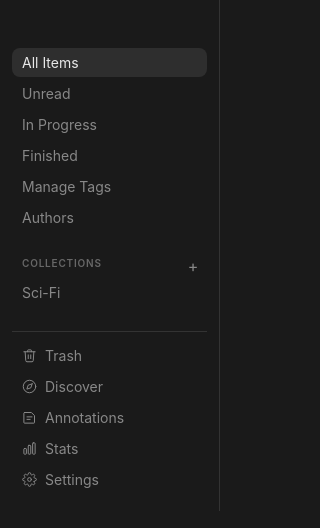
Test: Sidebar — collections CRUD › cancels a delete with No
Right-click the text "Sci-Fi" at point(41, 292), box 22,284 -> 60,301
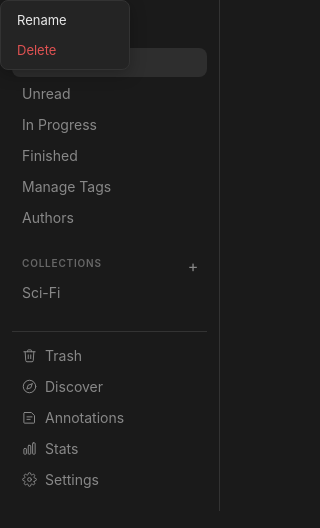
Click the button "Delete" at point(65, 50), box 5,35 -> 125,65
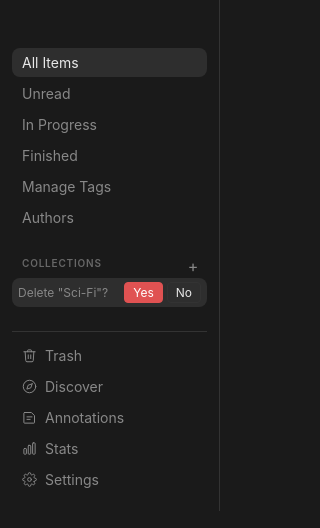
Click the button "No" at point(184, 292), box 167,282 -> 201,303
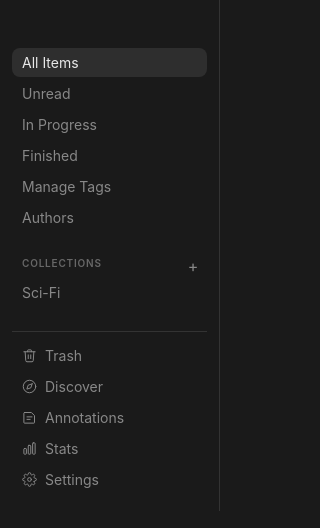
Expected: the text "Delete \"Sci-Fi\"?" is gone
